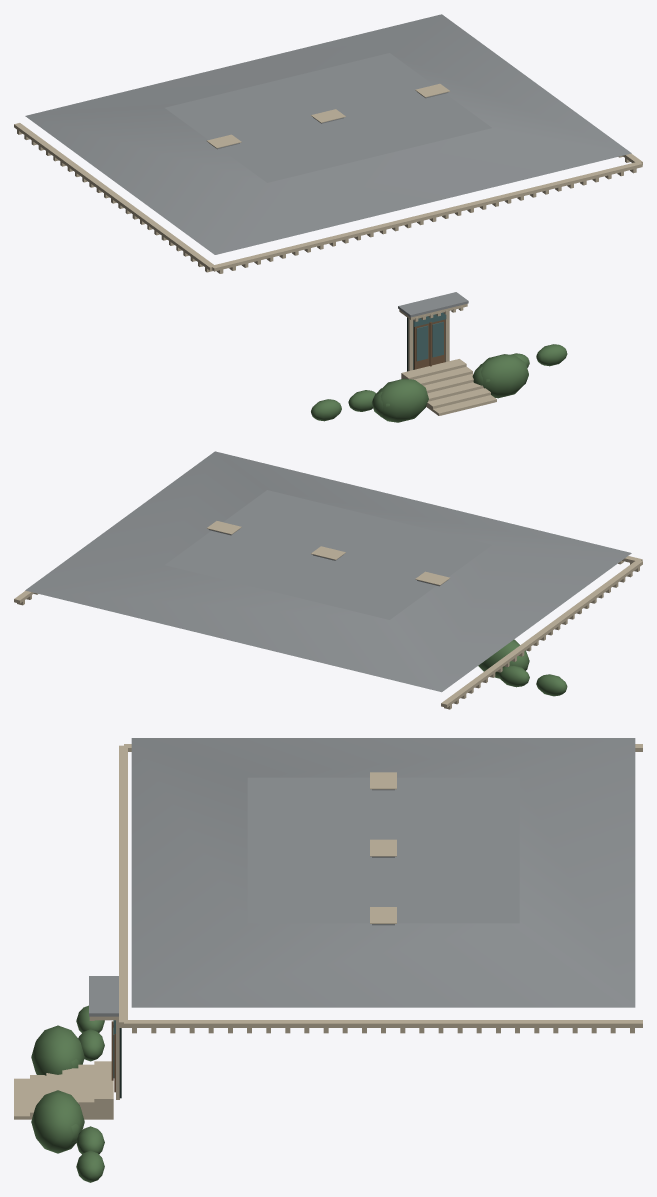
The model's file is johnson-roof-rear-overlay-2026-11-04.glb.
3 renders of one model, top to bottom at view 1: azimuth 30°, elevation 25°; view 2: azimuth 150°, elevation 25°; view 3: azimuth 270°, elevation 25°, orthographic. The views are drawn at different scales.
Visible parts, largest first — view 1: johnson-part-0, johnson-part-1; view 2: johnson-part-0, johnson-part-1; view 3: johnson-part-0, johnson-part-1.
Boxes of the visible parts, left/top/right/bottom form: johnson-part-0: left=14, top=14, right=642, bottom=415; johnson-part-1: left=311, top=344, right=567, bottom=422; johnson-part-0: left=14, top=451, right=642, bottom=709; johnson-part-1: left=478, top=639, right=567, bottom=696; johnson-part-0: left=14, top=738, right=642, bottom=1119; johnson-part-1: left=31, top=1005, right=104, bottom=1182.
Size of the model in its own units: 34.58 by 15.48 by 32.85.
